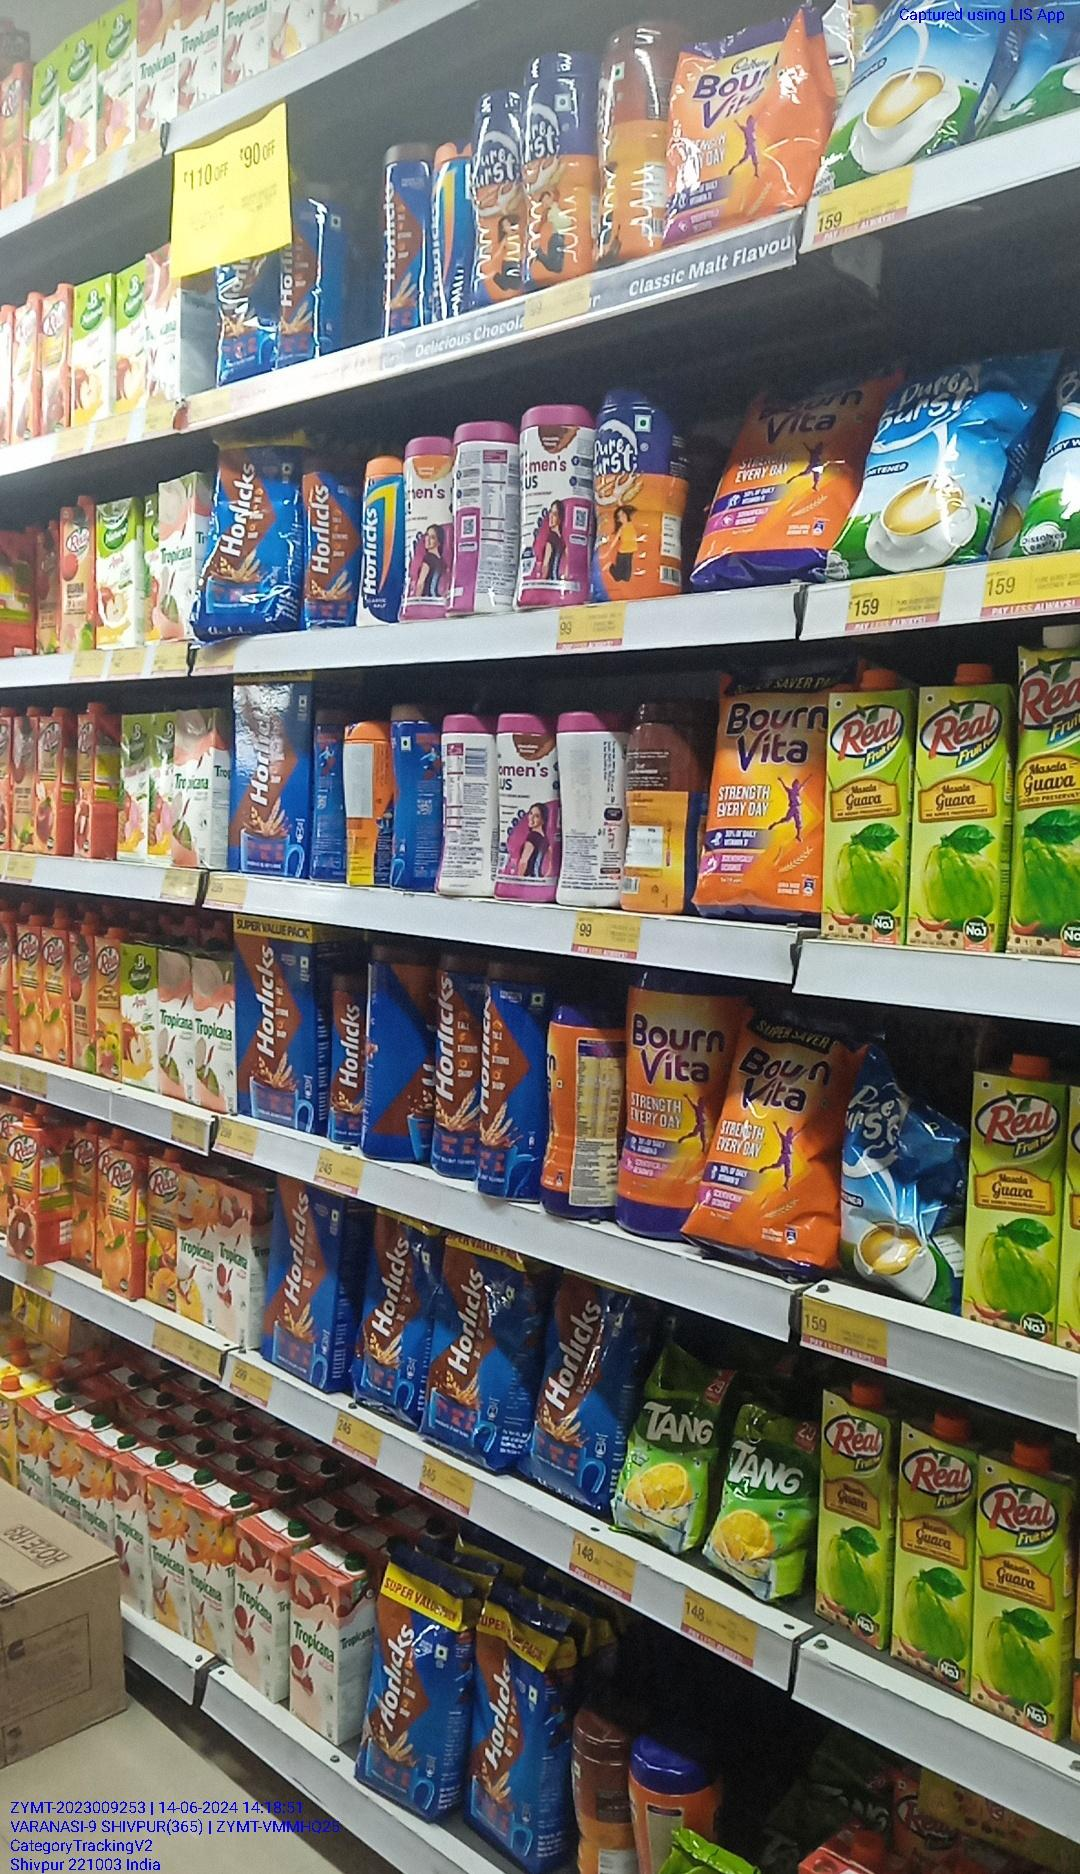HORLICK_CHOCOLATE_1_KG_PACK: (479, 967, 548, 1200), (377, 140, 429, 339), (436, 958, 476, 1182)
HORLICK_CHOCOLATE_500_G_JAR: (303, 459, 359, 627), (332, 968, 358, 1146)
